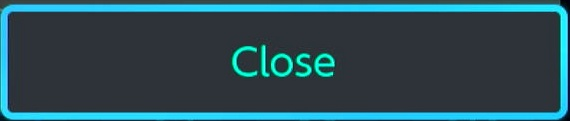close_button: (1, 1, 570, 121)
